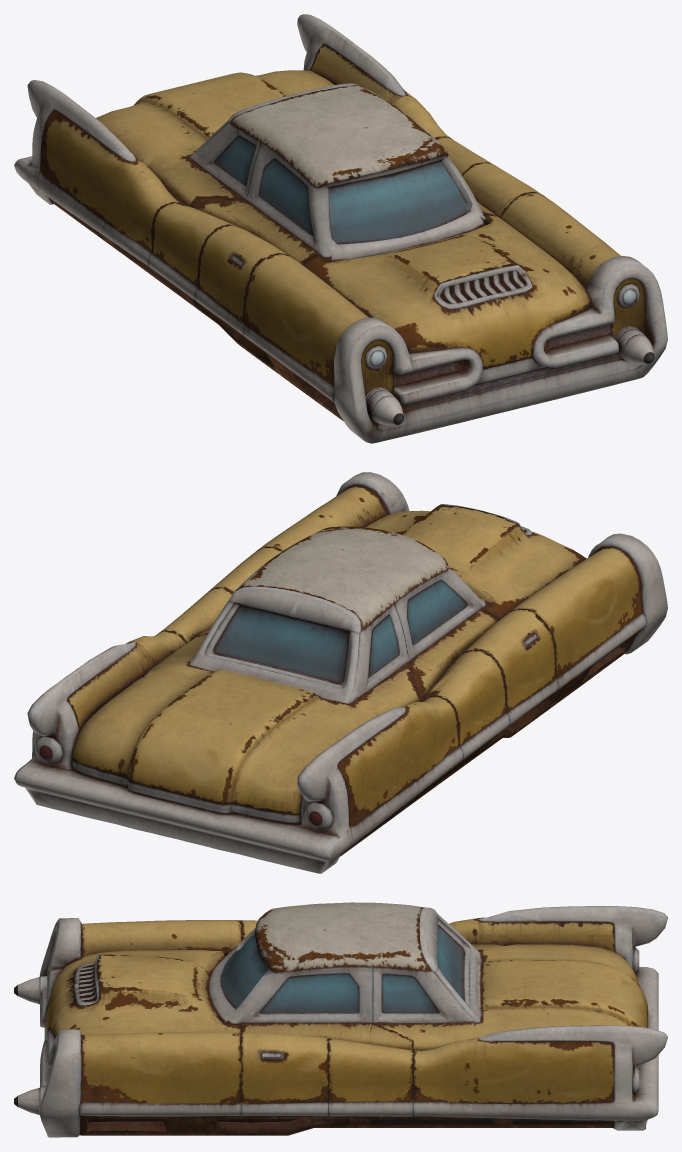
The picture shows the model from 3 angles, top to bottom: view 1: azimuth 30°, elevation 25°; view 2: azimuth 150°, elevation 25°; view 3: azimuth 270°, elevation 25°; orthographic projection. The views are drawn at different scales.
Parts seen in each view (by area): view 1: aaaafalloot; view 2: aaaafalloot; view 3: aaaafalloot.
Part boxes in pixels (box(x1,y1,x2,y2)): aaaafalloot: box(14, 14, 667, 443); aaaafalloot: box(14, 472, 667, 873); aaaafalloot: box(14, 902, 667, 1137).
Bounding box in the file's own units: 222 × 115 × 440.
1 material, 1 textured.
